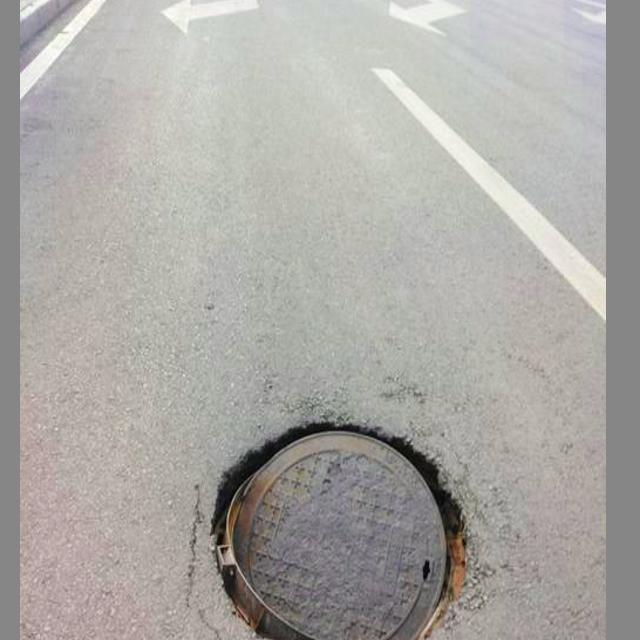circle: (168, 400, 497, 640)
